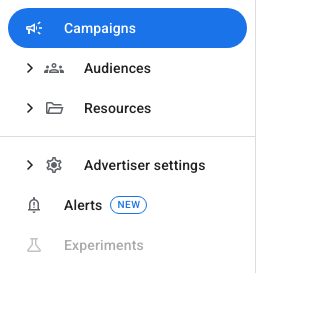
Test: DvNav › shows the "new" dot beside a child label
Click the button "Resources" at (85, 108), box [18, 96, 151, 120]
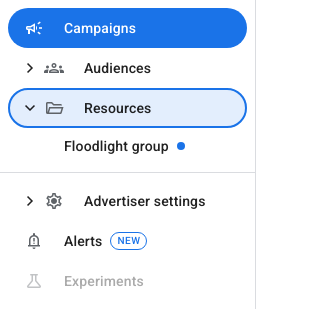
Expected: the picture named "New" is shown, [177, 142, 185, 150]
